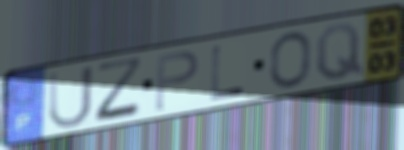L: (208, 43, 247, 103)
O: (268, 29, 314, 90)
P: (152, 48, 201, 114)
Q: (314, 21, 366, 83)
U: (47, 63, 96, 132)
Z: (93, 54, 147, 126)
